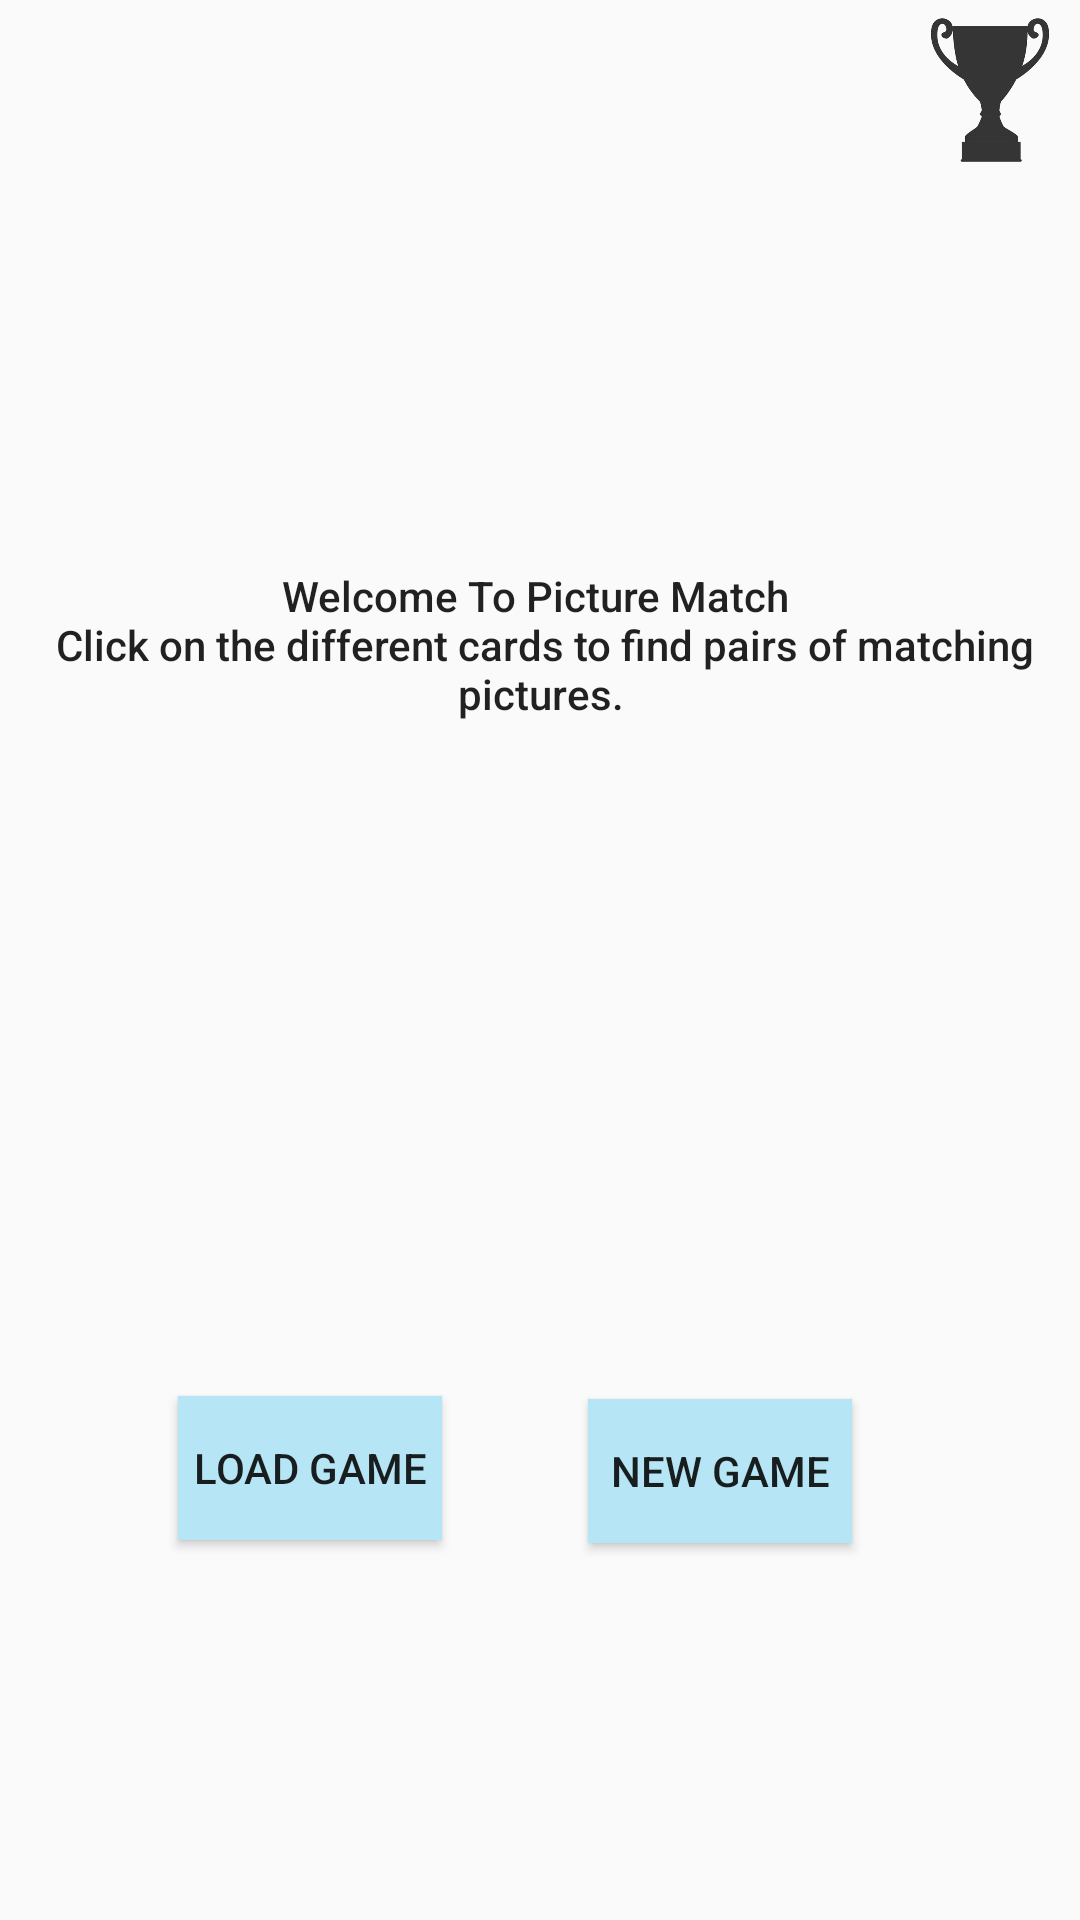

Locate icon controls on the screen. Image size 1080x1920, boxes as bbox(x1, y1, x2, y2).
scoreboard: bbox(931, 18, 1049, 162)
